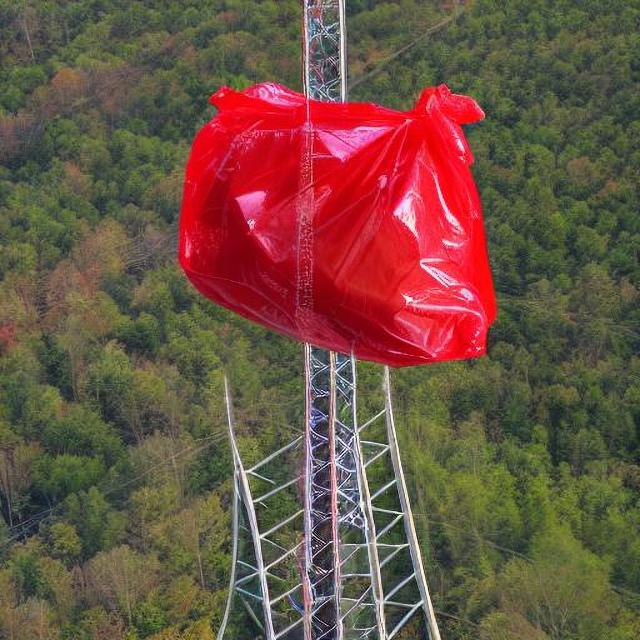plastic bag: (175, 73, 496, 370)
